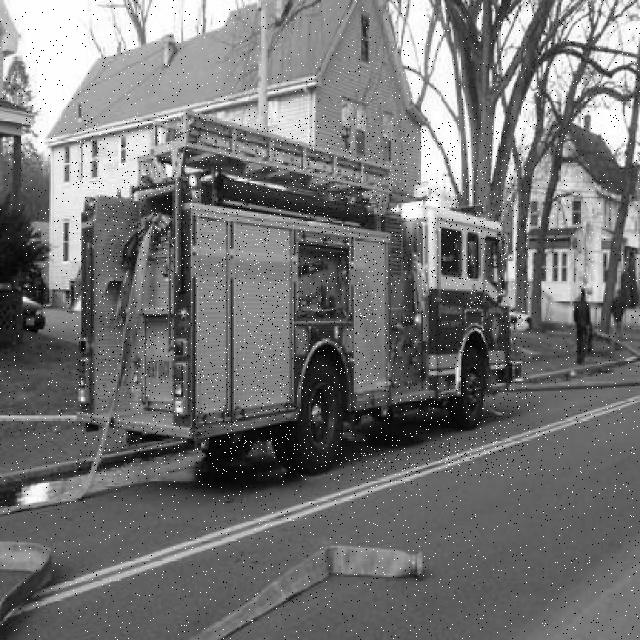Fire Truck: (75, 116, 530, 476)
